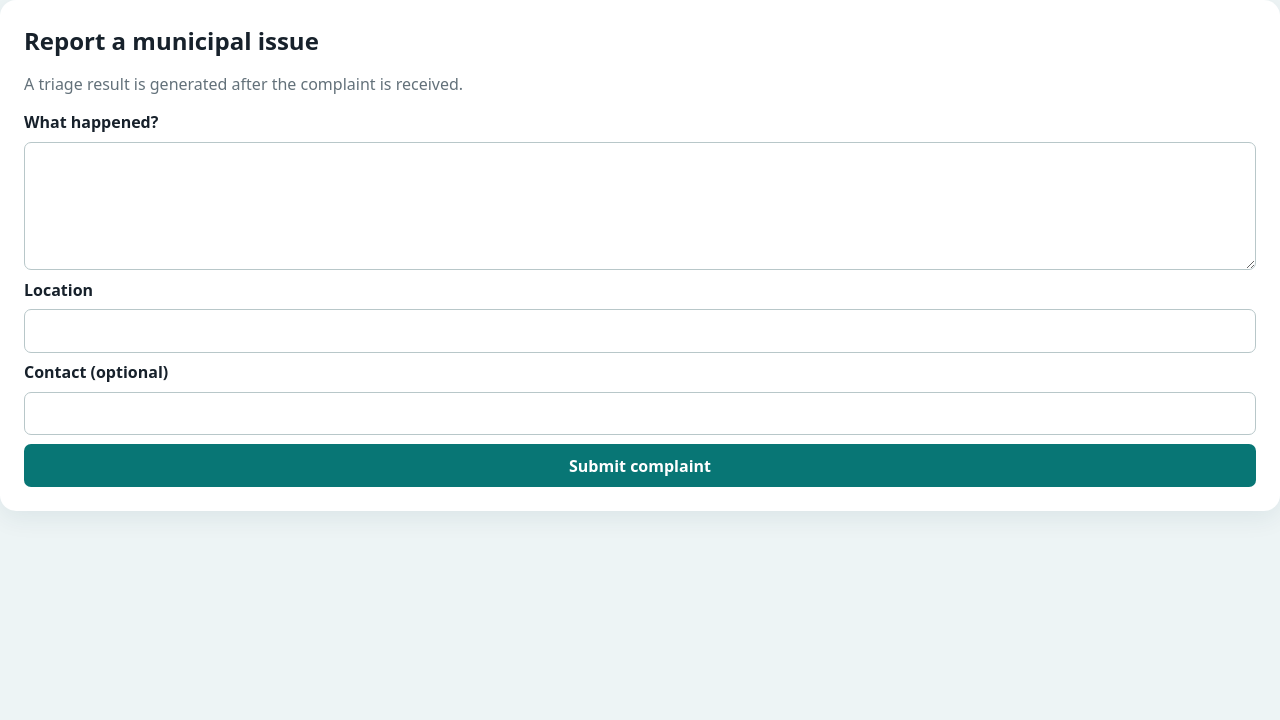
Scenario: ComplaintForm › mirrors the server minimum text validation before sending
In the text box labelled "What happened?": (640, 206) left=24, top=142, right=1256, bottom=270, type "too short"
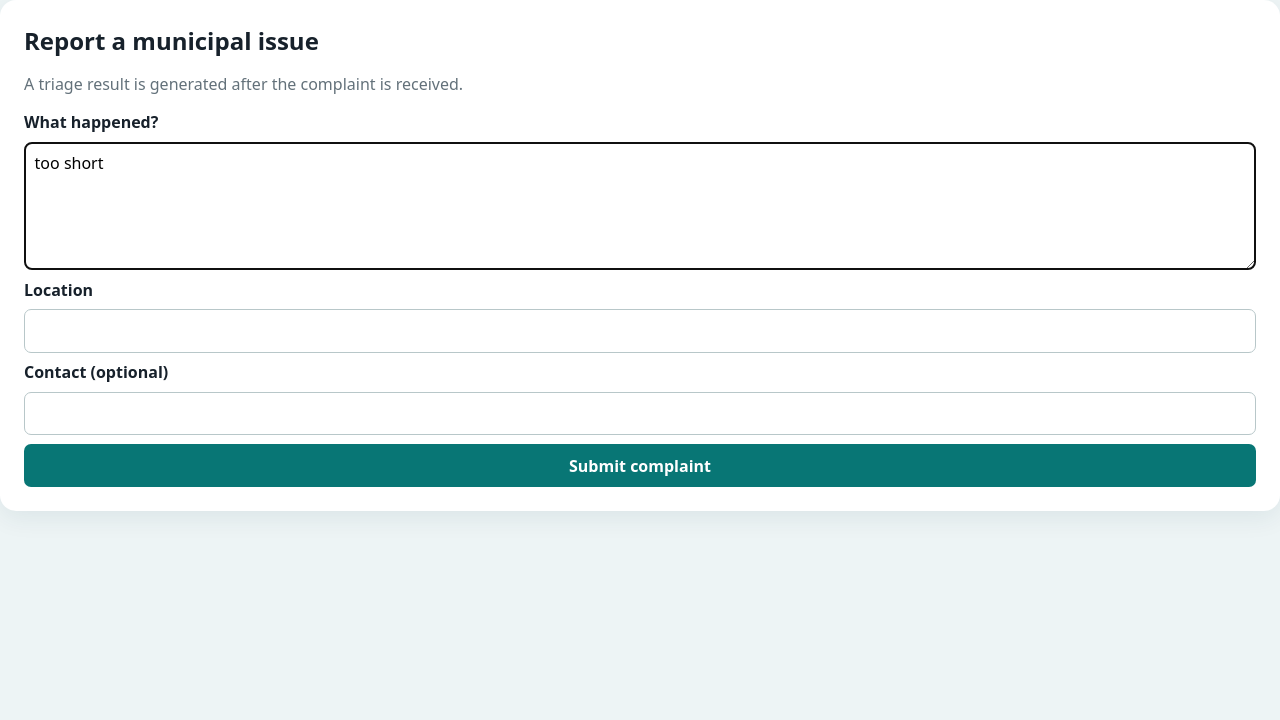
In the field labelled "Location": (640, 331) left=24, top=309, right=1256, bottom=353, type "Mall"
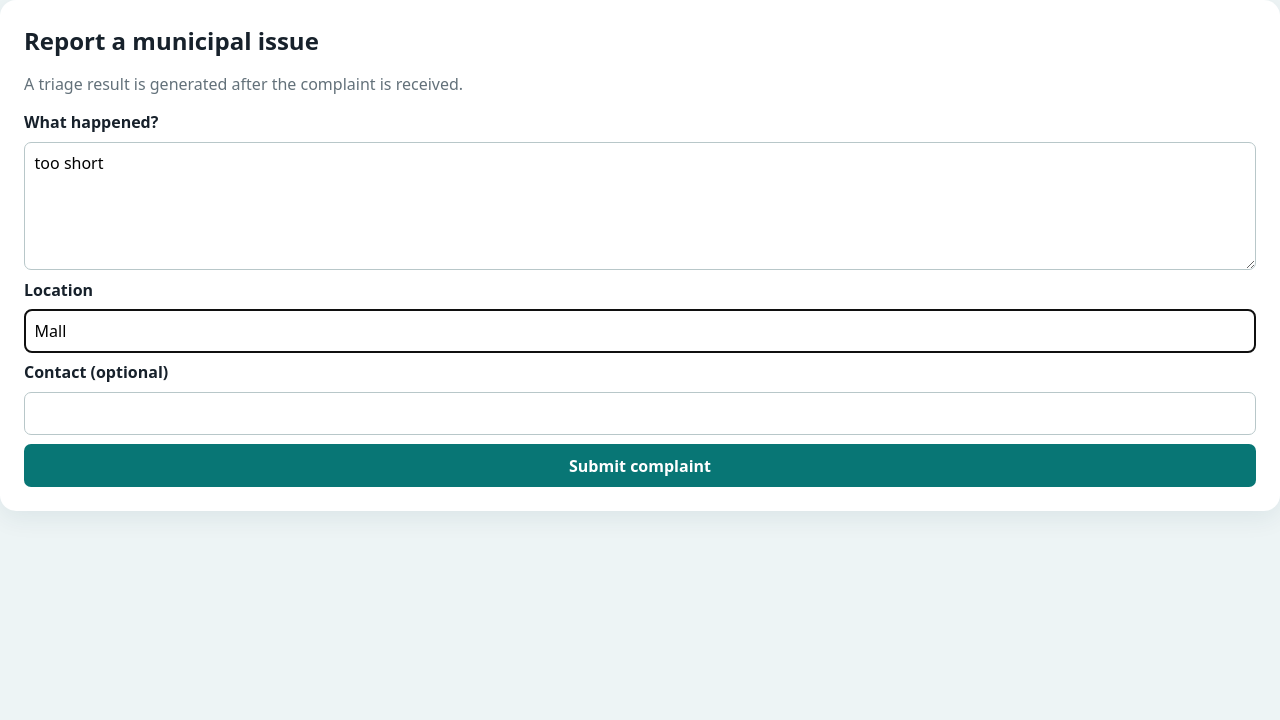
Click the button "Submit complaint": (640, 466) left=24, top=444, right=1256, bottom=487
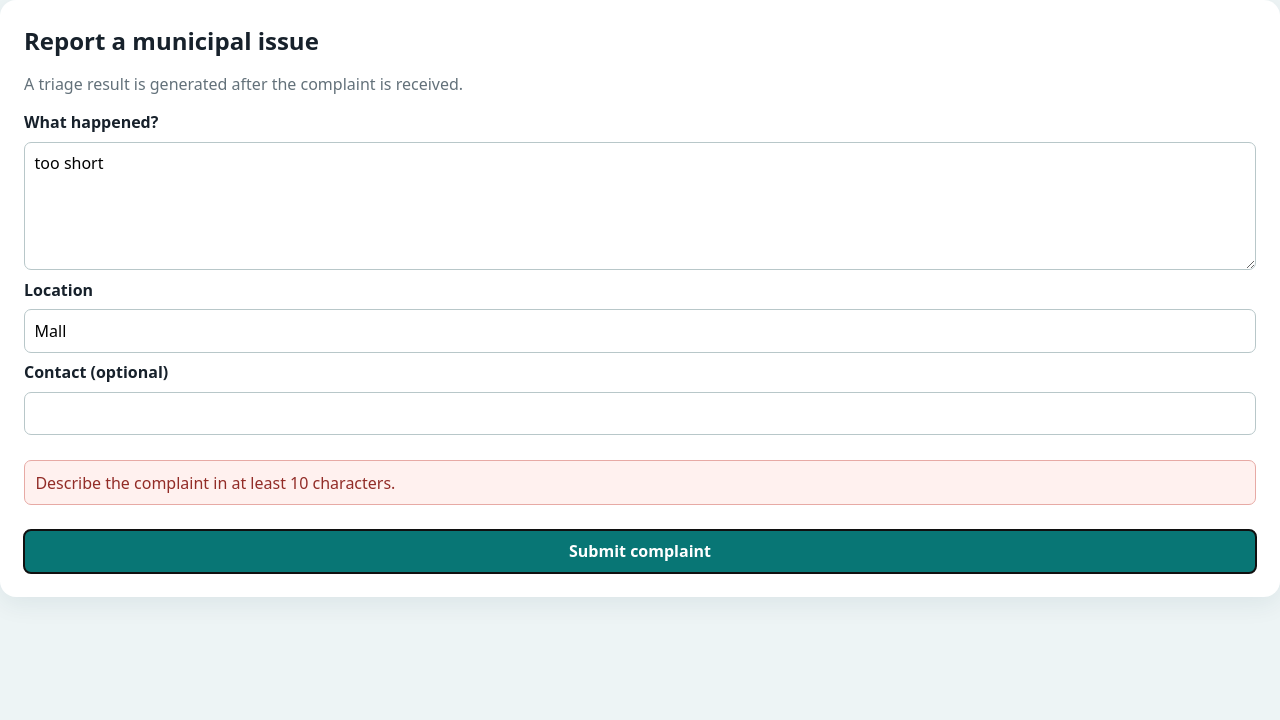
Check: the message shows "at least 10 characters", box left=35, top=472, right=395, bottom=494
